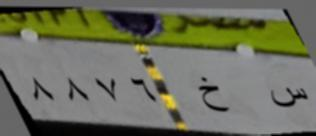6: (128, 74, 158, 108)
7: (94, 73, 118, 107)
8: (60, 72, 91, 109), (29, 73, 55, 107)
khaa: (196, 74, 233, 122)
seen: (268, 79, 310, 113)
